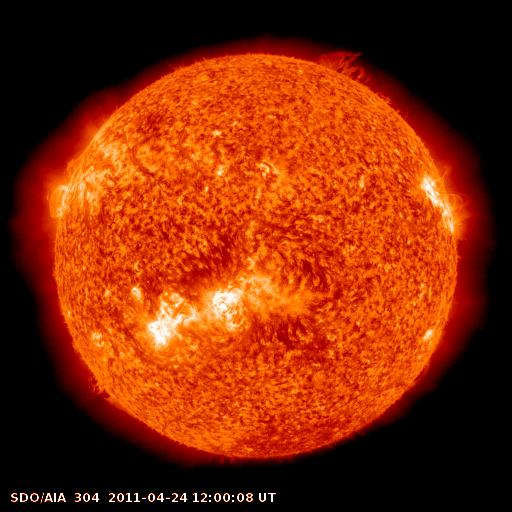prominence: (312, 41, 400, 115), (81, 367, 132, 415), (403, 359, 434, 392)
